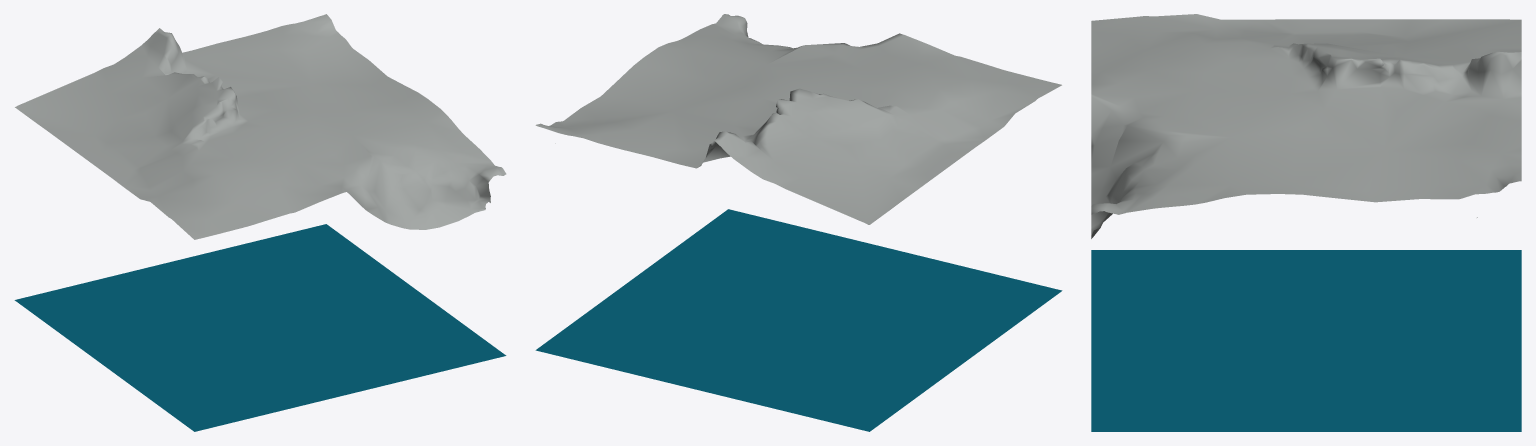
The picture shows the model from 3 angles, left to right: view 1: azimuth 30°, elevation 25°; view 2: azimuth 150°, elevation 25°; view 3: azimuth 270°, elevation 25°; orthographic projection. The views are drawn at different scales.
Visible parts, largest first — view 1: G:\FFXIV-MapTools\exports\s1f3\bg\ffxiv\sea_s1\fld\s1f3\bgpl (×10); view 2: G:\FFXIV-MapTools\exports\s1f3\bg\ffxiv\sea_s1\fld\s1f3\bgpl (×7); view 3: G:\FFXIV-MapTools\exports\s1f3\bg\ffxiv\sea_s1\fld\s1f3\bgpl (×11).
Boxes of the visible parts, <box> form: G:\FFXIV-MapTools\exports\s1f3\bg\ffxiv\sea_s1\fld\s1f3\bgpl (×10): <box>14,14,506,431</box>; G:\FFXIV-MapTools\exports\s1f3\bg\ffxiv\sea_s1\fld\s1f3\bgpl (×7): <box>535,14,1062,431</box>; G:\FFXIV-MapTools\exports\s1f3\bg\ffxiv\sea_s1\fld\s1f3\bgpl (×11): <box>1091,14,1521,431</box>.
Size of the model in its own units: 128 by 92.99 by 128.
